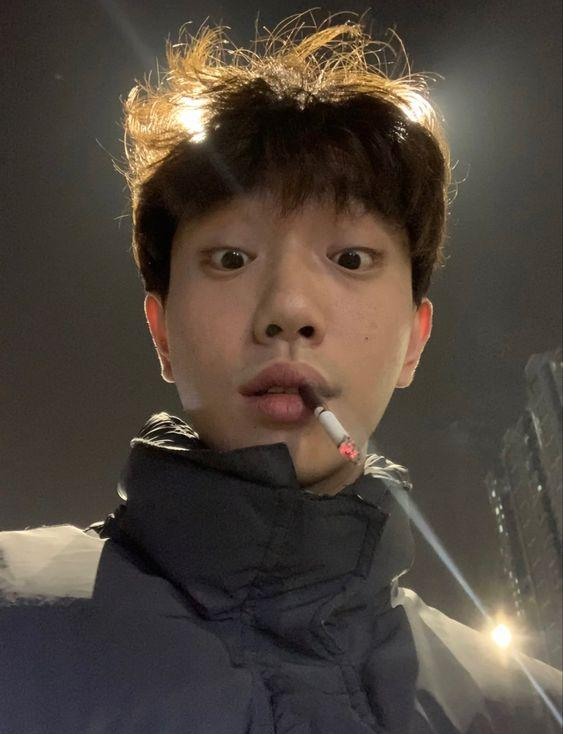cigarette: (299, 384, 360, 464)
